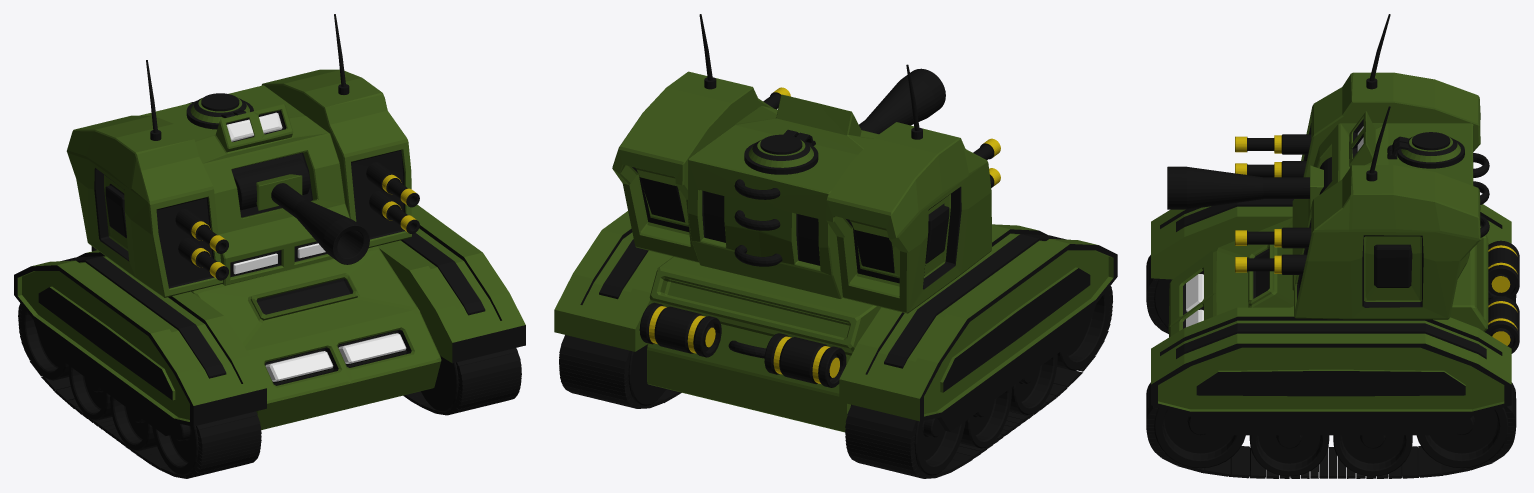
File: tank_4_green.fbx
3 views of the same model, side by side, from view 1: azimuth 30°, elevation 25°; view 2: azimuth 150°, elevation 25°; view 3: azimuth 270°, elevation 25° (orthographic). The views are drawn at different scales.
Parts seen in each view (by area): view 1: Base.021, Turret.021, Tracks.020, Canon.021, Wheels.038, MachineGun.004, Wheels.039, Entrance.021, Antennas.007; view 2: Base.021, Turret.021, Tracks.020, Tanks.003, Wheels.038, Wheels.039, Canon.021, Entrance.021, Ladder.020, Antennas.007, MachineGun.004; view 3: Base.021, Turret.021, Wheels.038, Tracks.020, Wheels.039, Canon.021, MachineGun.004, Tanks.003, Entrance.021, Antennas.007, Ladder.020.
Boxes of the visible parts, bbox=[...] form: Base.021: bbox=[14, 204, 525, 435]; Turret.021: bbox=[66, 69, 411, 297]; Tracks.020: bbox=[18, 303, 521, 478]; Canon.021: bbox=[233, 158, 369, 264]; Wheels.038: bbox=[21, 306, 458, 475]; MachineGun.004: bbox=[175, 162, 419, 280]; Wheels.039: bbox=[68, 365, 156, 450]; Entrance.021: bbox=[186, 93, 253, 129]; Antennas.007: bbox=[146, 14, 349, 140]; Base.021: bbox=[554, 211, 1117, 432]; Turret.021: bbox=[612, 71, 991, 313]; Tracks.020: bbox=[559, 286, 1112, 478]; Tanks.003: bbox=[639, 302, 846, 387]; Wheels.038: bbox=[628, 289, 1109, 475]; Wheels.039: bbox=[960, 354, 1057, 448]; Canon.021: bbox=[859, 68, 945, 133]; Entrance.021: bbox=[744, 129, 818, 174]; Ladder.020: bbox=[734, 179, 782, 266]; Antennas.007: bbox=[699, 14, 922, 139]; MachineGun.004: bbox=[763, 87, 1000, 187]; Base.021: bbox=[1151, 199, 1511, 435]; Turret.021: bbox=[1292, 72, 1480, 319]; Wheels.038: bbox=[1154, 280, 1508, 468]; Tracks.020: bbox=[1146, 255, 1516, 478]; Wheels.039: bbox=[1249, 435, 1412, 476]; Canon.021: bbox=[1167, 157, 1332, 210]; MachineGun.004: bbox=[1235, 134, 1311, 274]; Tanks.003: bbox=[1485, 240, 1519, 353]; Entrance.021: bbox=[1387, 132, 1464, 168]; Antennas.007: bbox=[1366, 14, 1390, 181]; Ladder.020: bbox=[1473, 153, 1489, 237].
Size of the model in its own units: 186 by 181 by 180.
